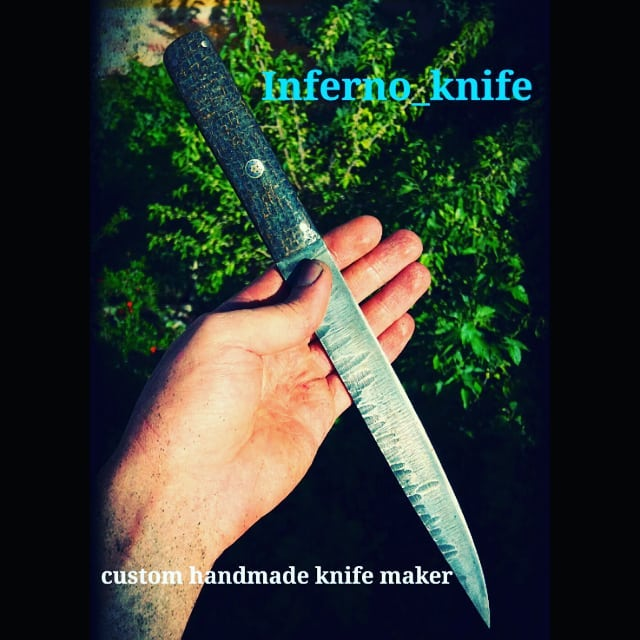knife: (165, 30, 489, 625)
